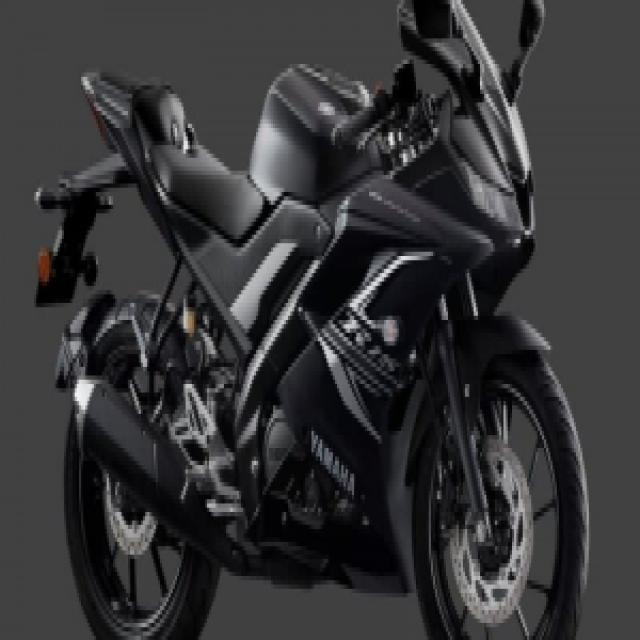Bike: (27, 6, 590, 634)
